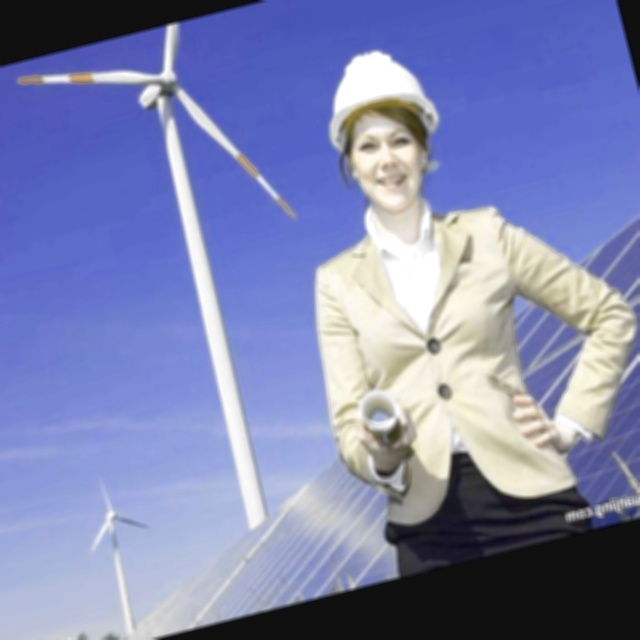Con_Casco: (310, 39, 455, 210)
Sin_Chaleco: (319, 202, 565, 512)
